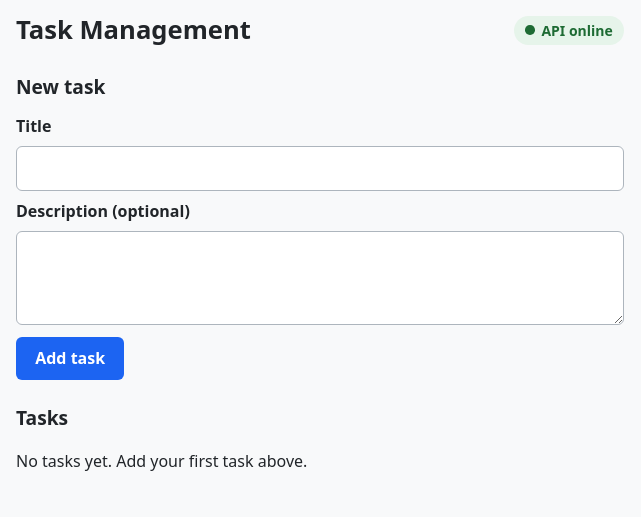
App › keeps the form text and shows the message when the API refuses a task
This screenshot has width=641, height=517.
Expected: the text "No tasks yet. Add your first task above." is shown, 16,450 -> 307,472
In the field labelled "Title": [320, 169] box 16,146 -> 624,191, type "Buy milk"
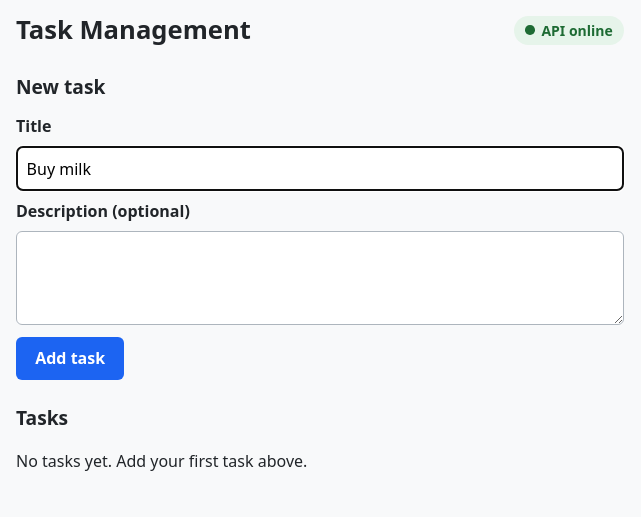
Click the button "Add task": [70, 358] box 16,337 -> 124,380
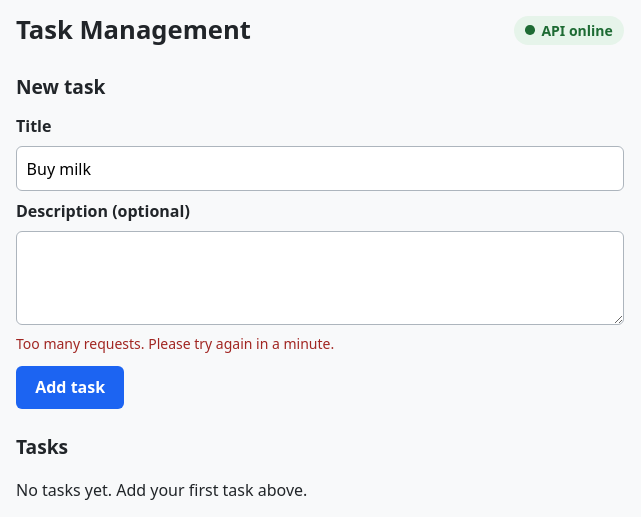
Now the message "Too many requests. Please try again in a minute." is shown, box 16,334 -> 334,353
